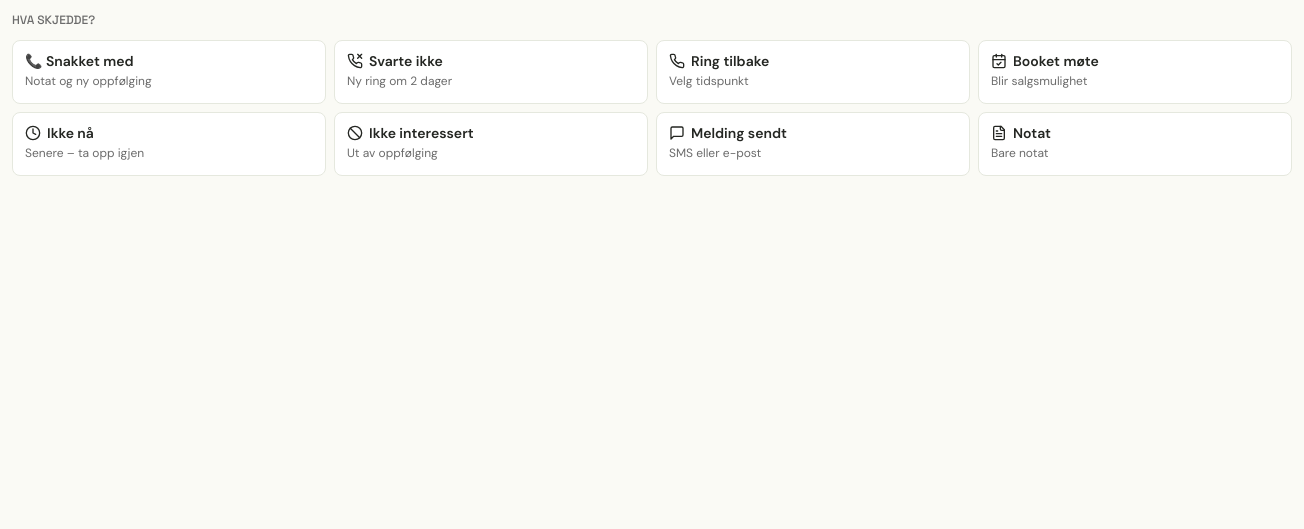
Test case: oppgaver lages bare manuelt › logging av «Snakket med» med forhåndsutfylt oppfølging lager ingen oppgave, men setter oppfølging på leadet
Later steps or results of the test are not shown.
Click the button "📞 Snakket med Notat og ny oppfølging". click: (79, 61)
box: 12,40 -> 326,104
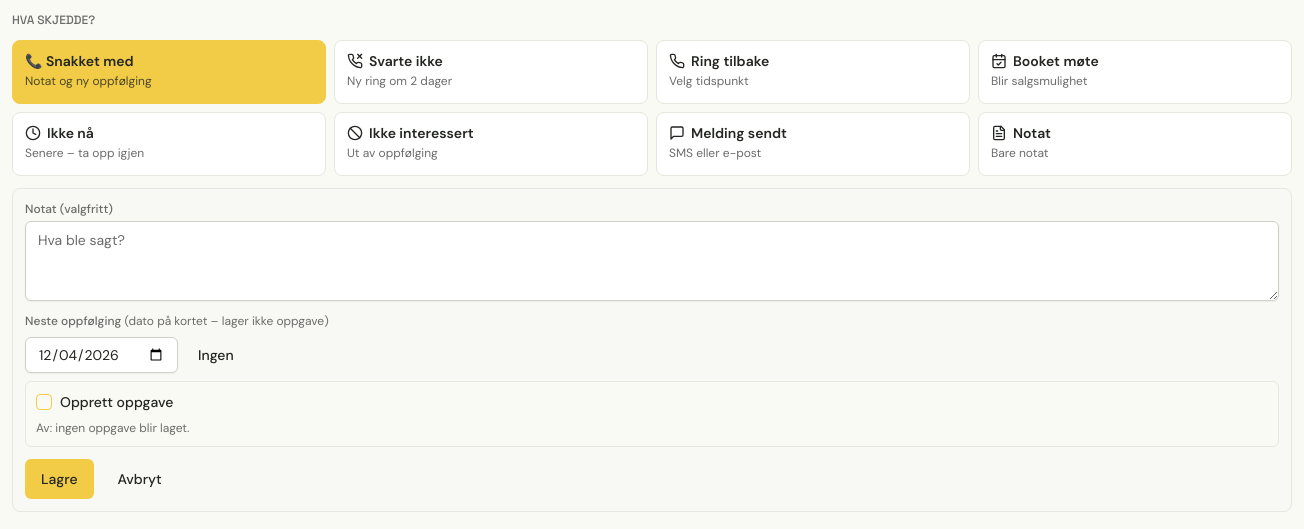
Expected: the date field named "Dato for neste oppfølging" is not empty, 25,337 -> 178,373
